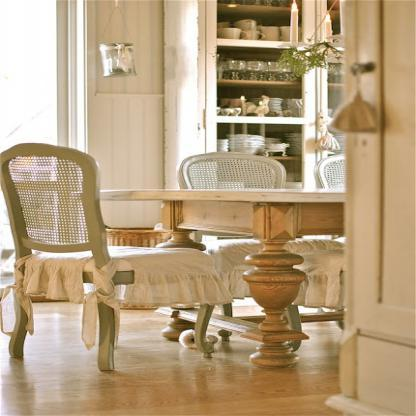chair: (0, 142, 222, 379), (174, 138, 344, 340)
door: (334, 0, 416, 416), (79, 4, 161, 229)
table: (69, 170, 344, 371)
